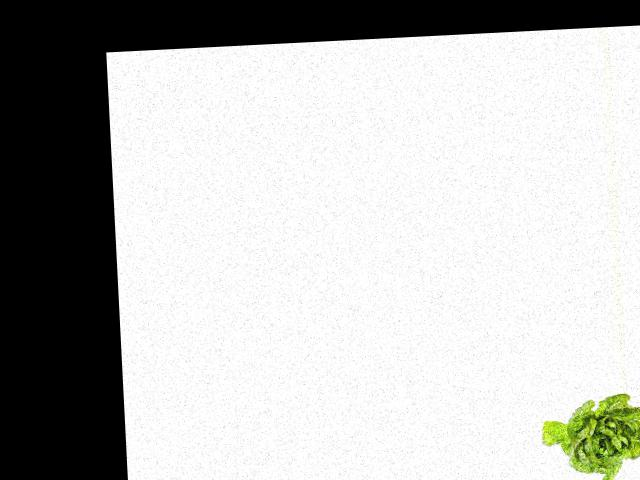lettuce: (536, 395, 640, 480)
